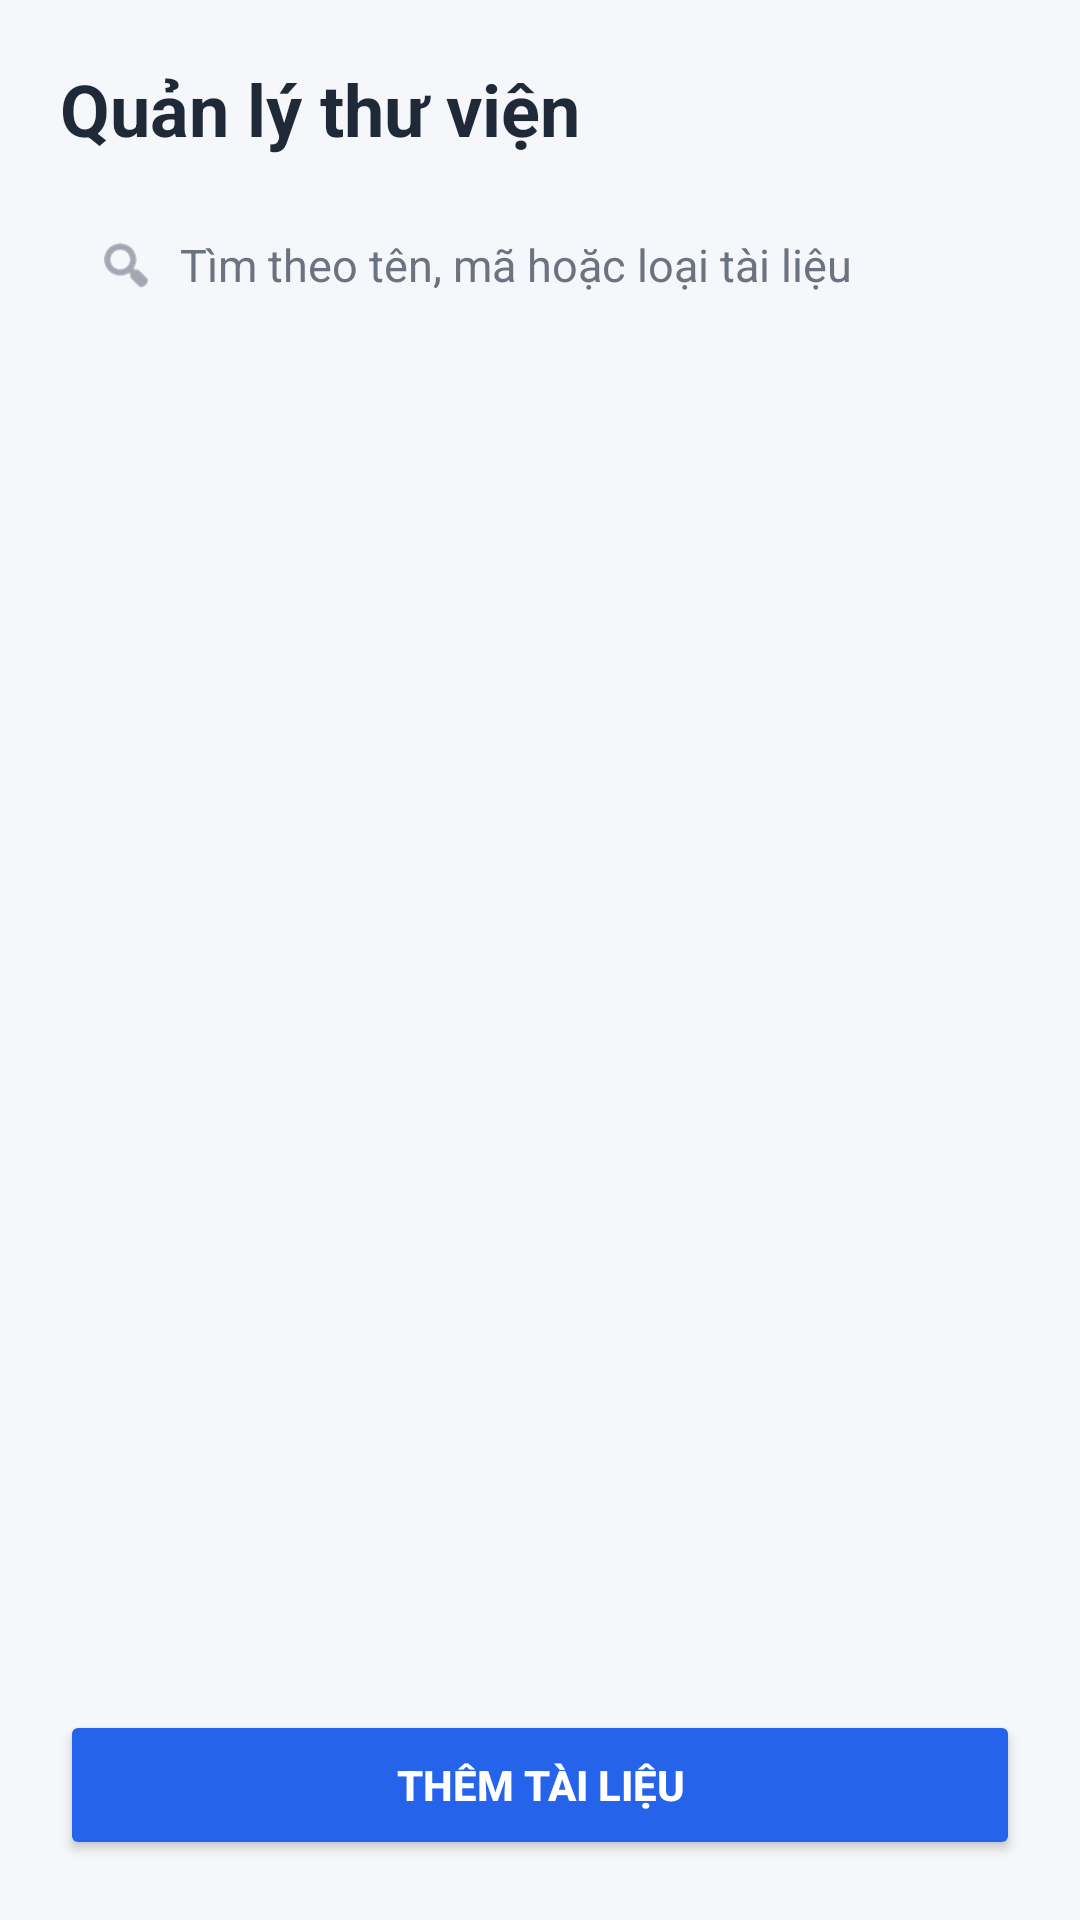

Locate icon controls on the screen. Image size 1080w x 1920h, boxes as Rect(x1, y1, x2, y2).
Tìm kiếm: Rect(104, 243, 148, 287)
